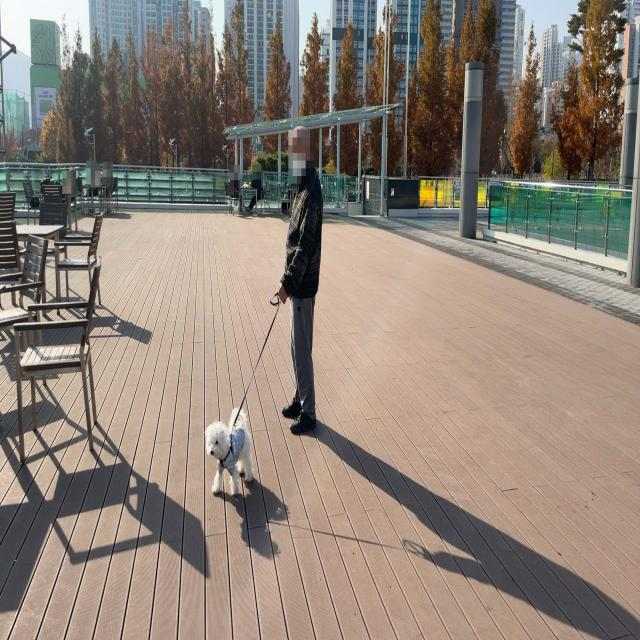Leashed_Dog: (204, 271, 307, 499)
